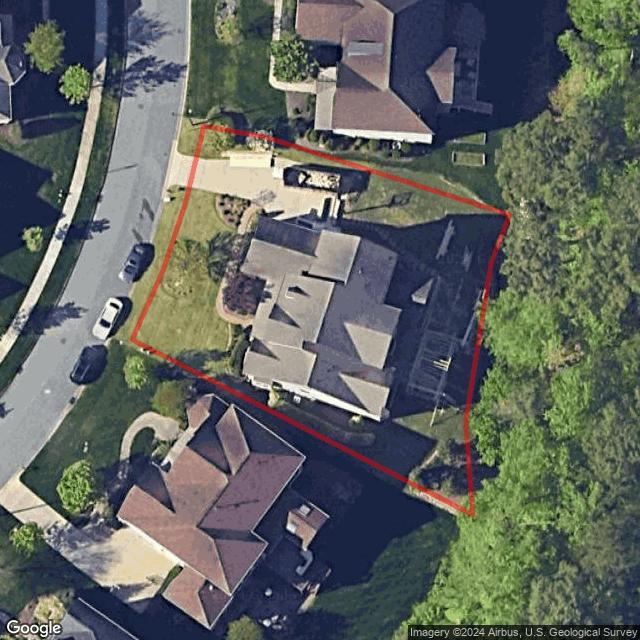Driveway: (188, 157, 345, 234)
Extra-Driveway: (167, 150, 197, 188)
Extra-Lawn: (116, 185, 189, 341), (177, 122, 204, 156)
House: (242, 229, 405, 425)
Lawn: (131, 127, 510, 514)
Other: (335, 218, 437, 387), (404, 329, 460, 403), (225, 270, 268, 317), (225, 323, 254, 382), (215, 193, 252, 230)
Sidewalk: (215, 201, 261, 329)
